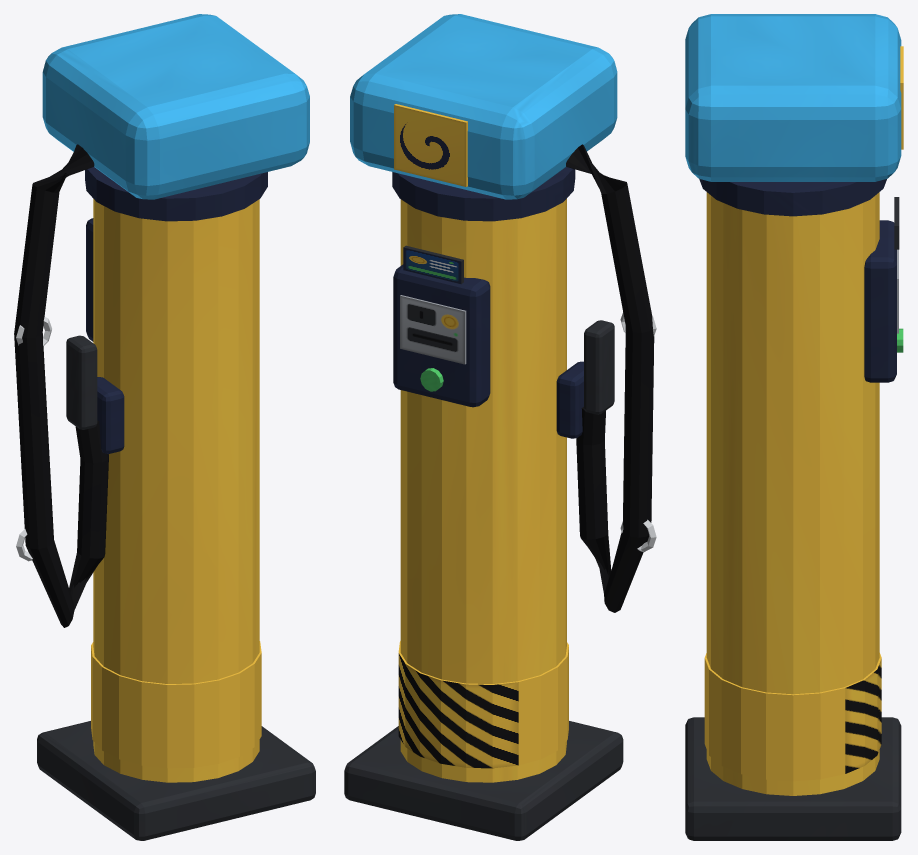
The model's file is SW_VacuumPillar.glb.
3 views of the same model, side by side, from view 1: azimuth 30°, elevation 25°; view 2: azimuth 150°, elevation 25°; view 3: azimuth 270°, elevation 25° (orthographic). The views are drawn at different scales.
Visible parts, largest first — view 1: Body, Hose; view 2: Body, Hose; view 3: Body.
Boxes of the visible parts, box(x1,y1,x2,y2) form: Body: box(37, 14, 315, 840); Hose: box(14, 144, 124, 627); Body: box(344, 14, 623, 840); Hose: box(556, 144, 656, 612); Body: box(685, 14, 903, 840).
Size of the model in its own units: 0.71 by 1.91 by 0.506.
2 materials, 1 textured.
